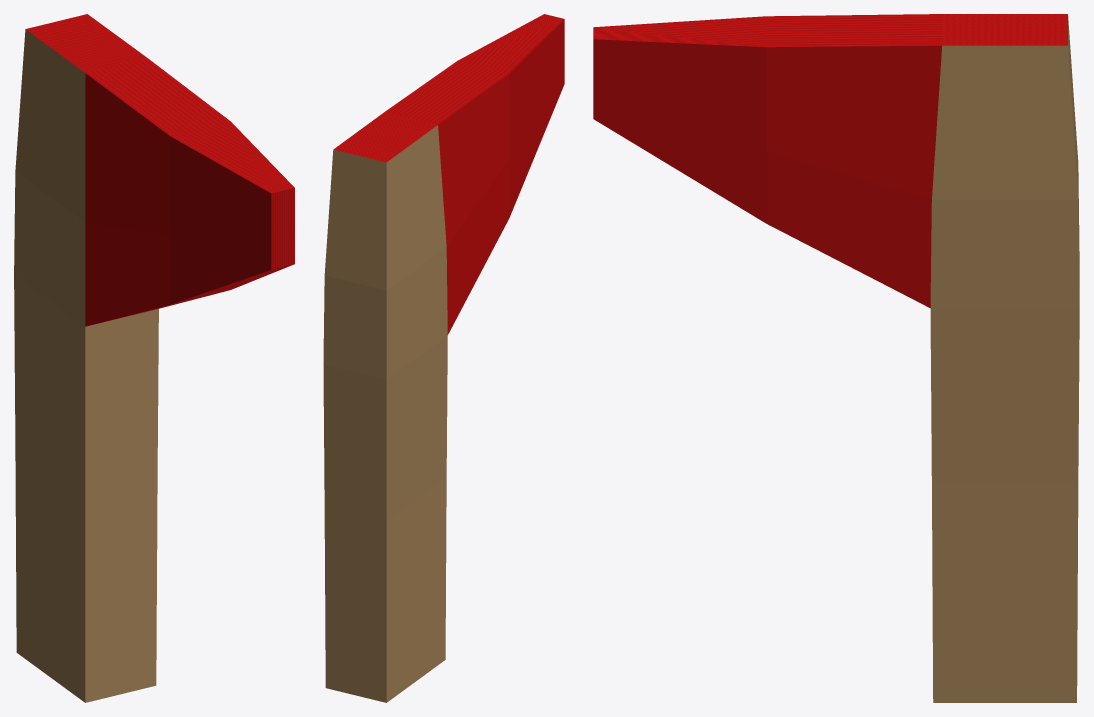
File: Flag.FBX
3 views of the same model, side by side, from view 1: azimuth 30°, elevation 25°; view 2: azimuth 150°, elevation 25°; view 3: azimuth 270°, elevation 25° (orthographic). The views are drawn at different scales.
Parts seen in each view (by area): view 1: Box001; view 2: Box001; view 3: Box001.
Boxes of the visible parts, box(x1,y1,x2,y2) form: Box001: box(14, 14, 294, 702); Box001: box(323, 14, 564, 702); Box001: box(593, 14, 1079, 702).
Bounding box in the file's own units: 5.1 × 41.44 × 27.89.
